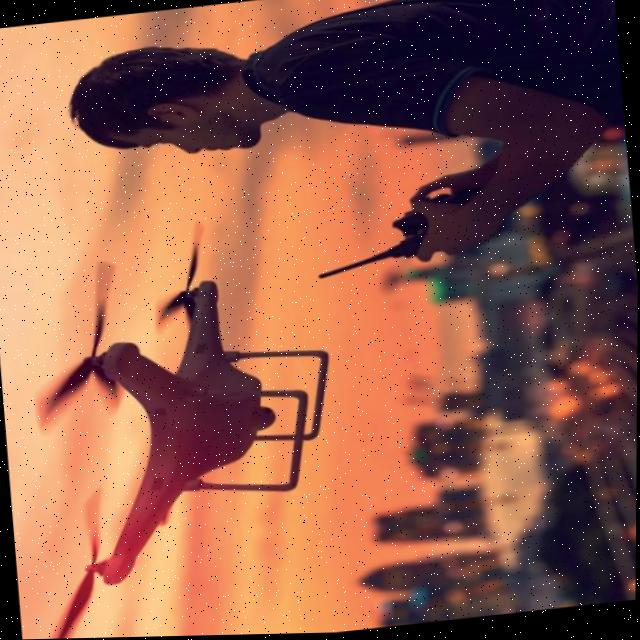drones: (0, 212, 362, 640)
